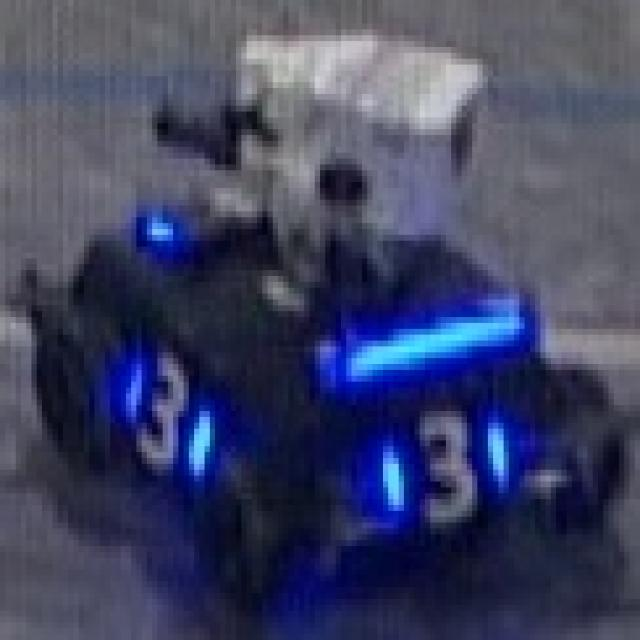B3: (367, 394, 509, 528), (116, 346, 220, 476)
